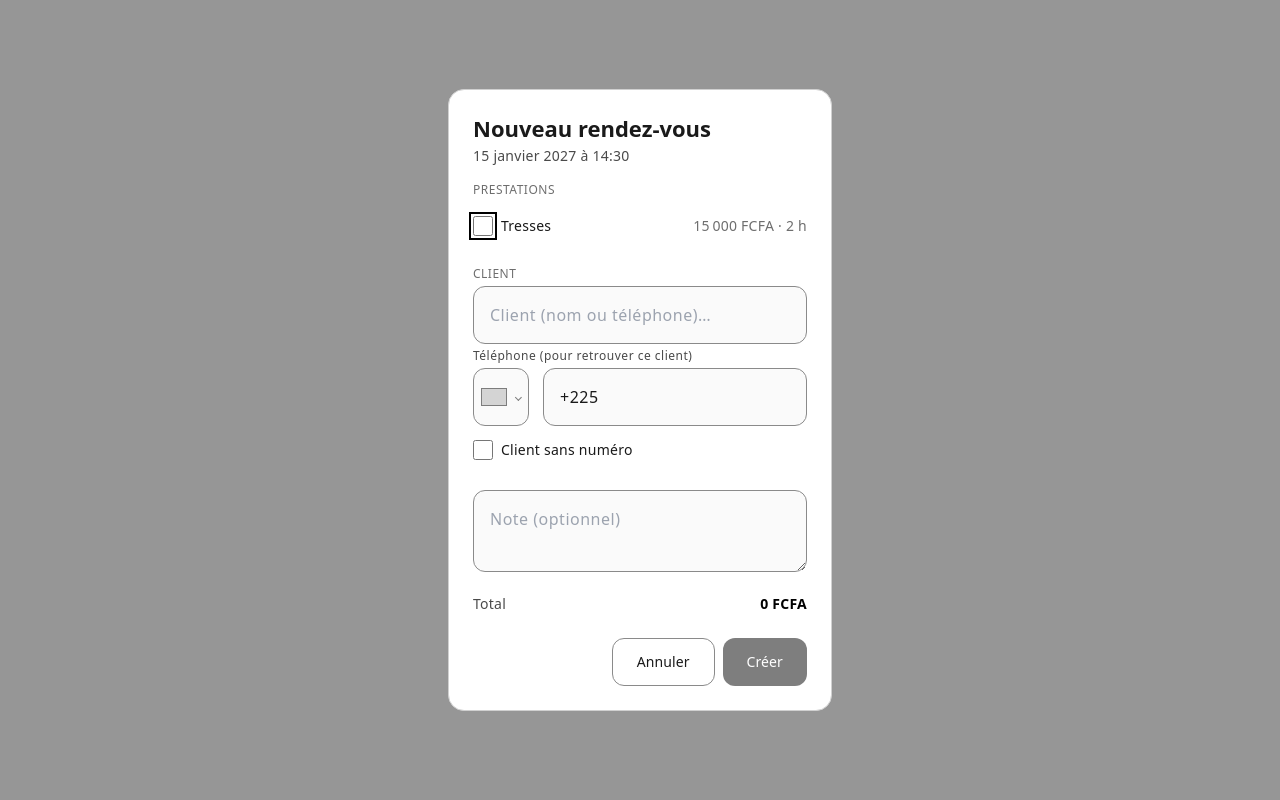
Test: ManualBookingDialog — the walk-in, like the app › ticking the box clears that fault and turns the field off; unticking brings it back as it was
Step 1. Type "Awa" into the field named "Rechercher ou nommer le client" → coordinates (640, 315), box [473,286,807,344]
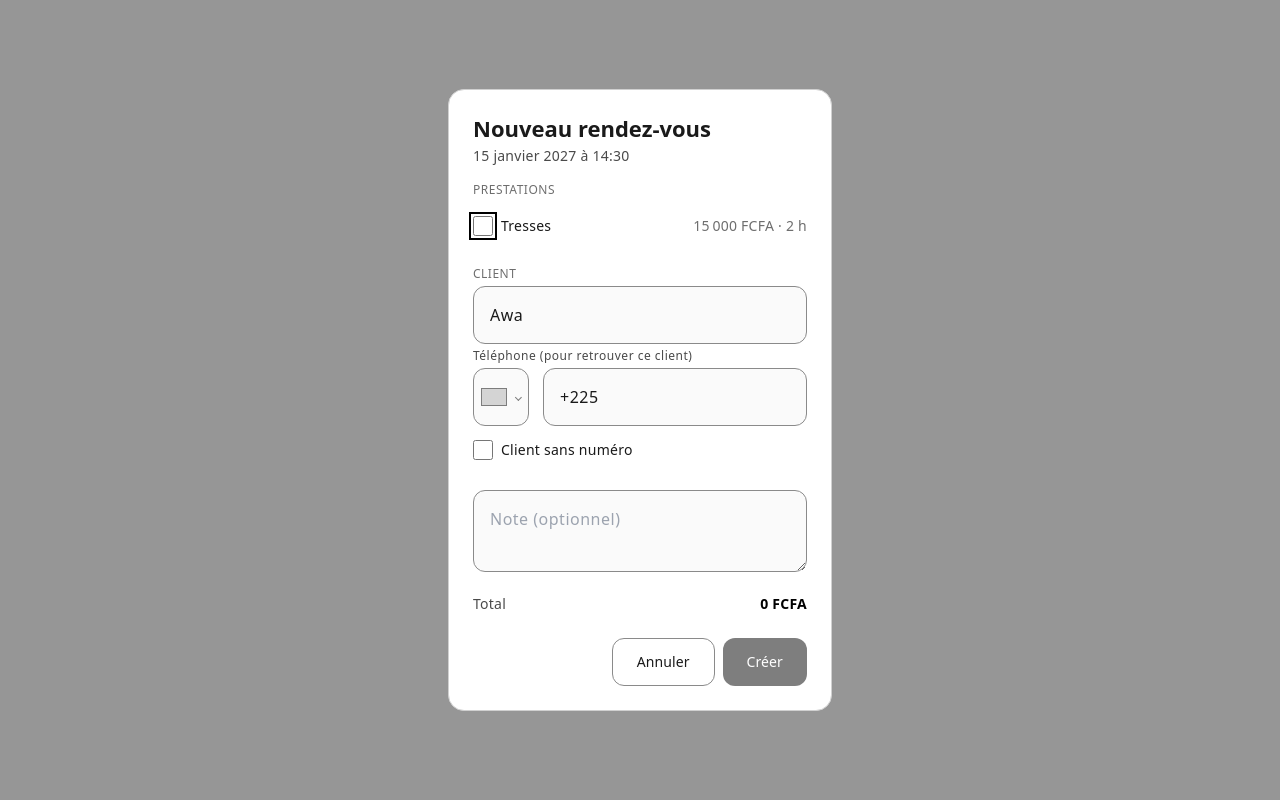
Step 2. Click the checkbox labelled "Tresses 15 000 FCFA · 2 h" → coordinates (483, 226), box [473,216,493,236]
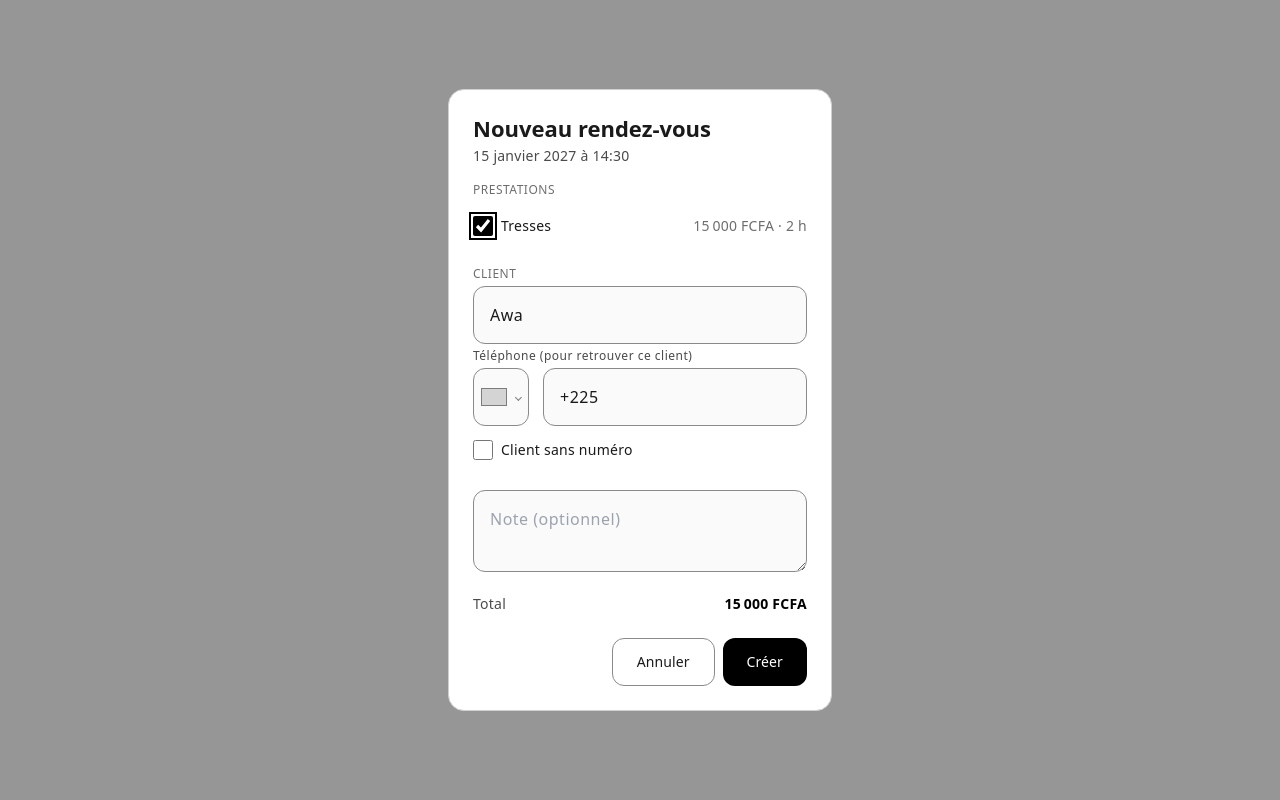
Step 3. Replace the text in the field labelled "Téléphone (pour retrouver ce client)" with "+2250700" → coordinates (675, 397), box [543,368,807,426]
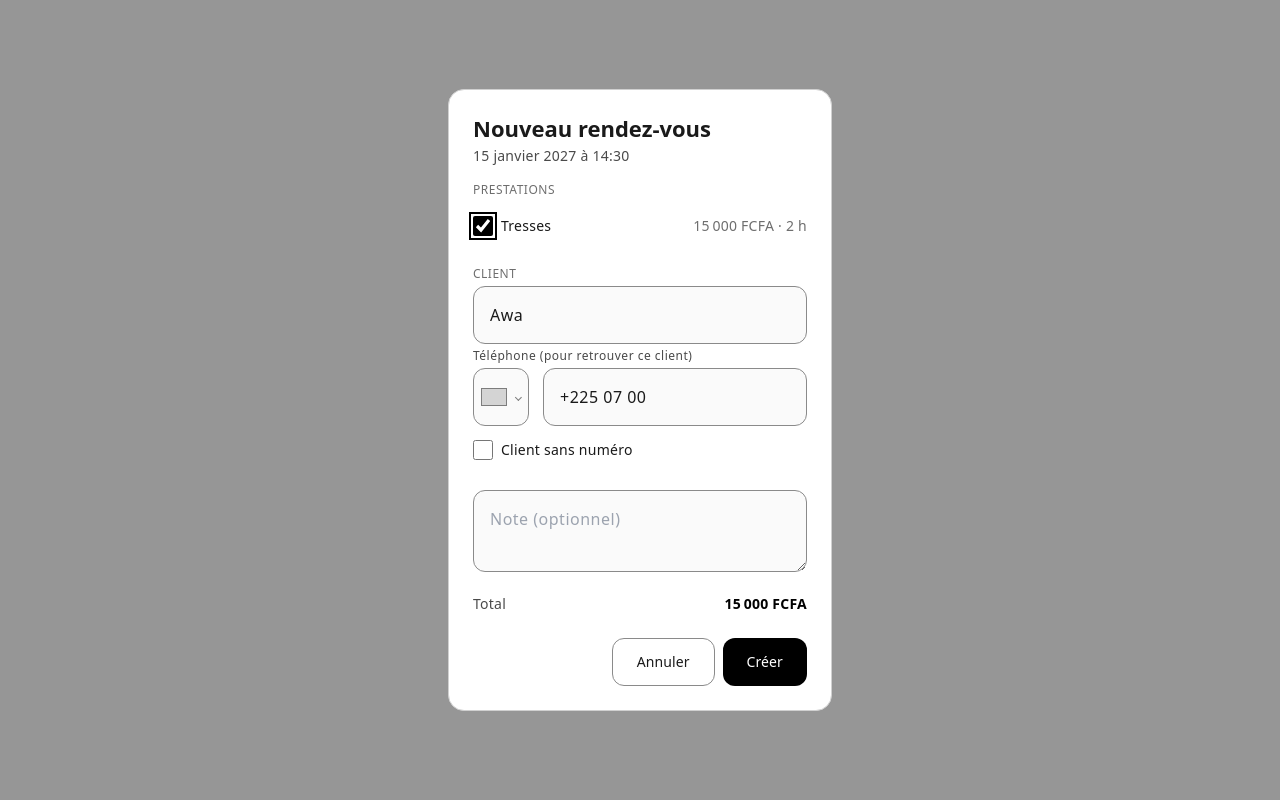
Step 4. Click the button "Créer" → coordinates (765, 662), box [723,638,807,686]
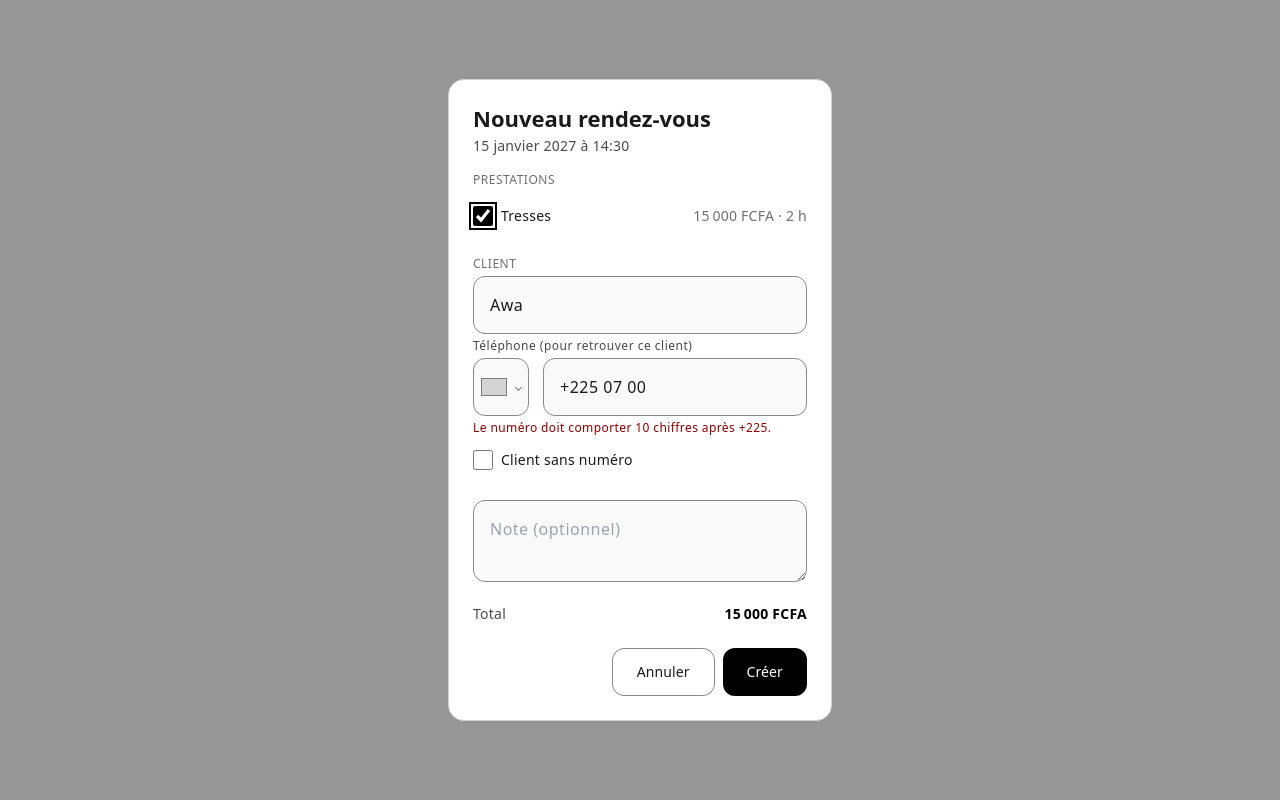
Result: the text "Le numéro doit comporter 10 chiffres après +225." is shown at [473,420,807,436]
Step 5. Click the checkbox labelled "Client sans numéro" → coordinates (483, 460), box [473,450,493,470]
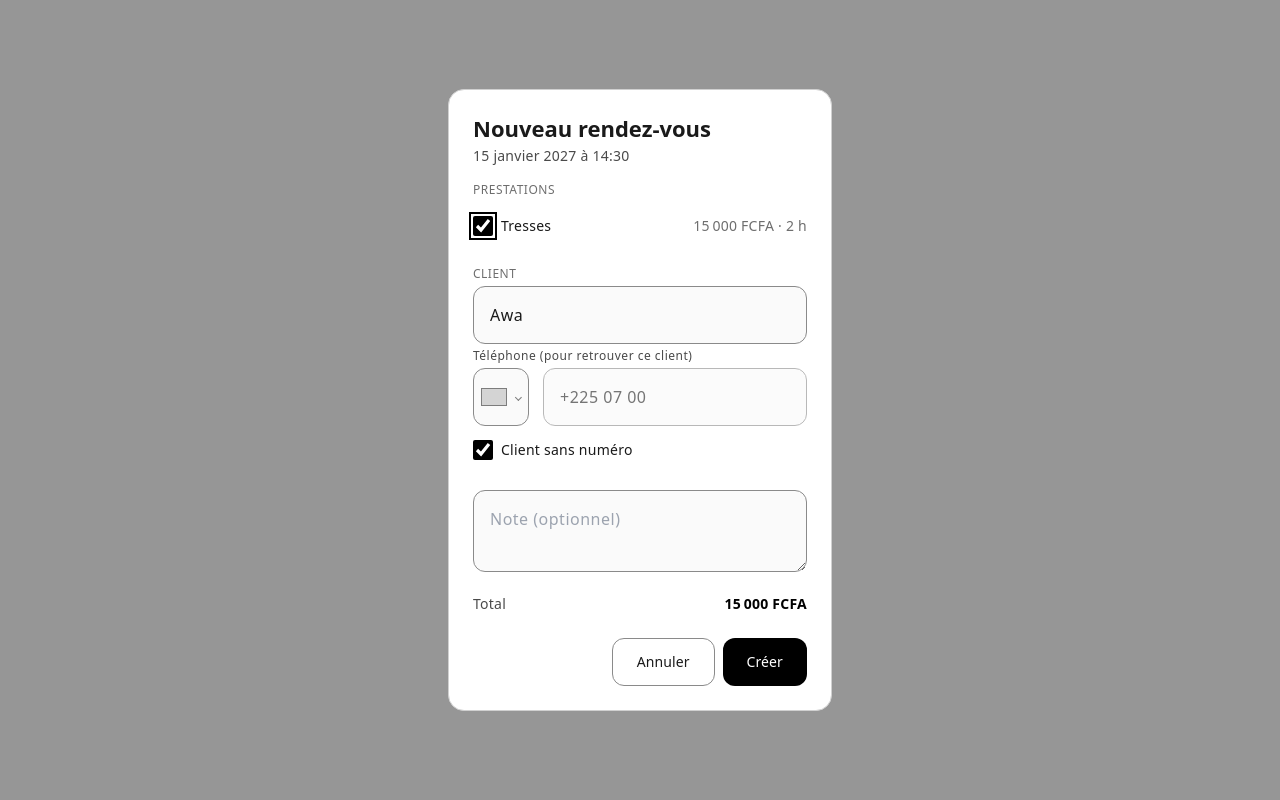
Result: the text "chiffres" is gone
Result: the field labelled "Téléphone (pour retrouver ce client)" is disabled at [543,368,807,426]
Step 6. Click the checkbox labelled "Client sans numéro" → coordinates (483, 450), box [473,440,493,460]
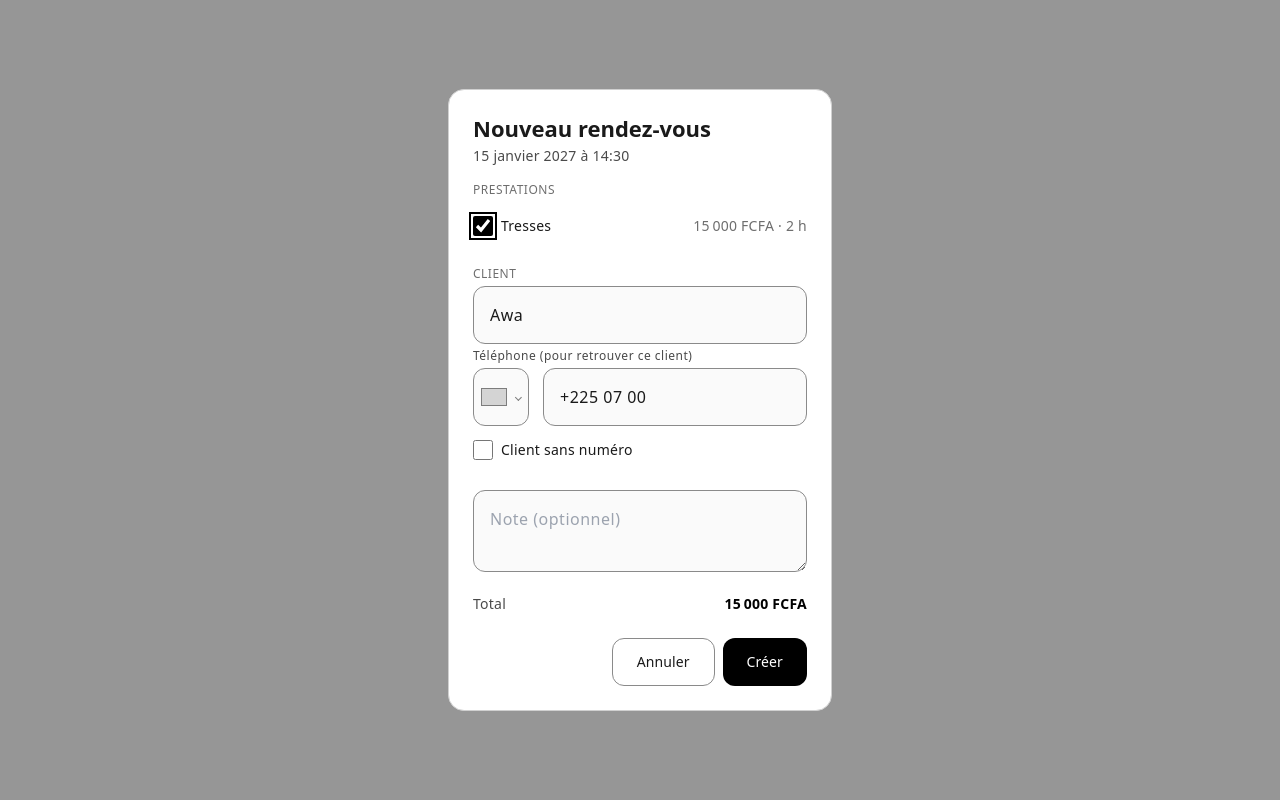
Result: the field labelled "Téléphone (pour retrouver ce client)" holds "+225 07 00" at [543,368,807,426]
Result: the field labelled "Téléphone (pour retrouver ce client)" is enabled at [543,368,807,426]
